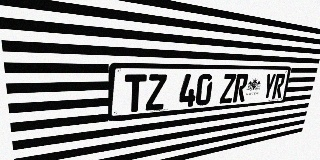0: (195, 74, 213, 106)
4: (178, 74, 198, 108)
R: (232, 74, 249, 102), (272, 74, 286, 99)
T: (124, 74, 147, 113)
Y: (262, 74, 276, 100)
Z: (145, 74, 167, 111), (219, 74, 236, 104)
